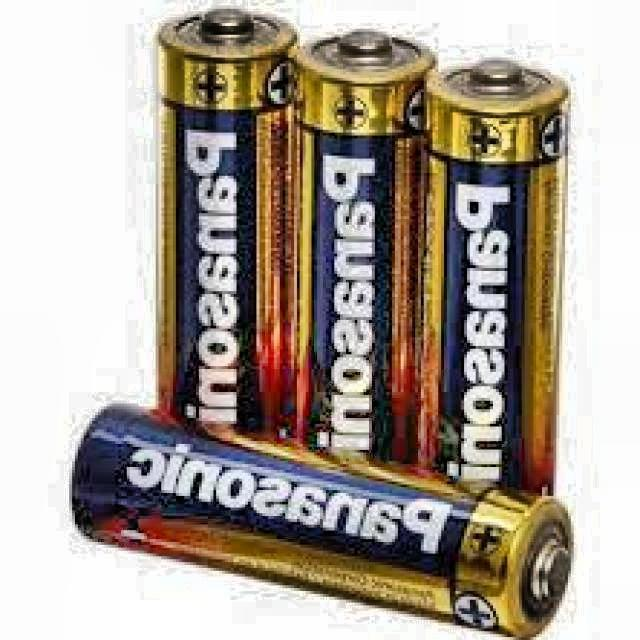battery: (69, 402, 572, 637), (412, 58, 571, 491), (286, 30, 438, 465), (153, 8, 298, 439)
